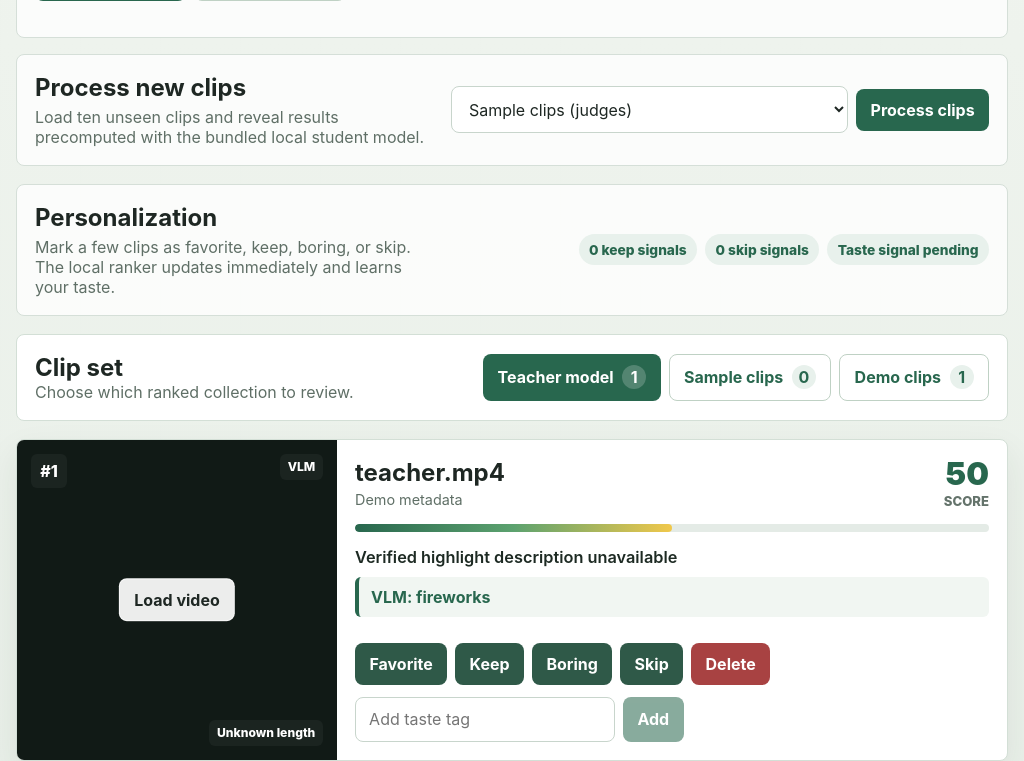
Test: ReviewInbox feedback ordering › filters the inbox between teacher, sample, and demo clip sets
(page scrolled)
Check: the heading "teacher.mp4" is shown, box [355,458,505,486]
Check: the button "Sample clips 0" is shown, box [669,354,831,400]
What coordinates should you click on to do the following:
click the button "Demo clips 1"
I would click on:
 (914, 377)
Its box is [839,354,989,400].
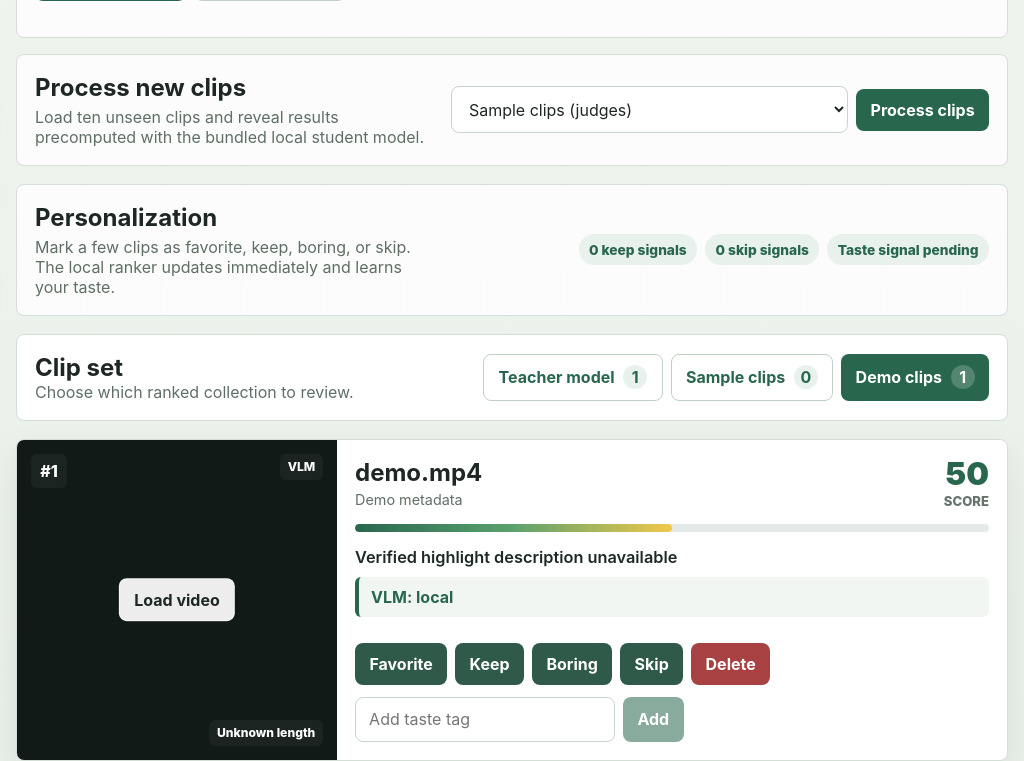
Check: the heading "demo.mp4" is shown, box [355,458,482,486]
